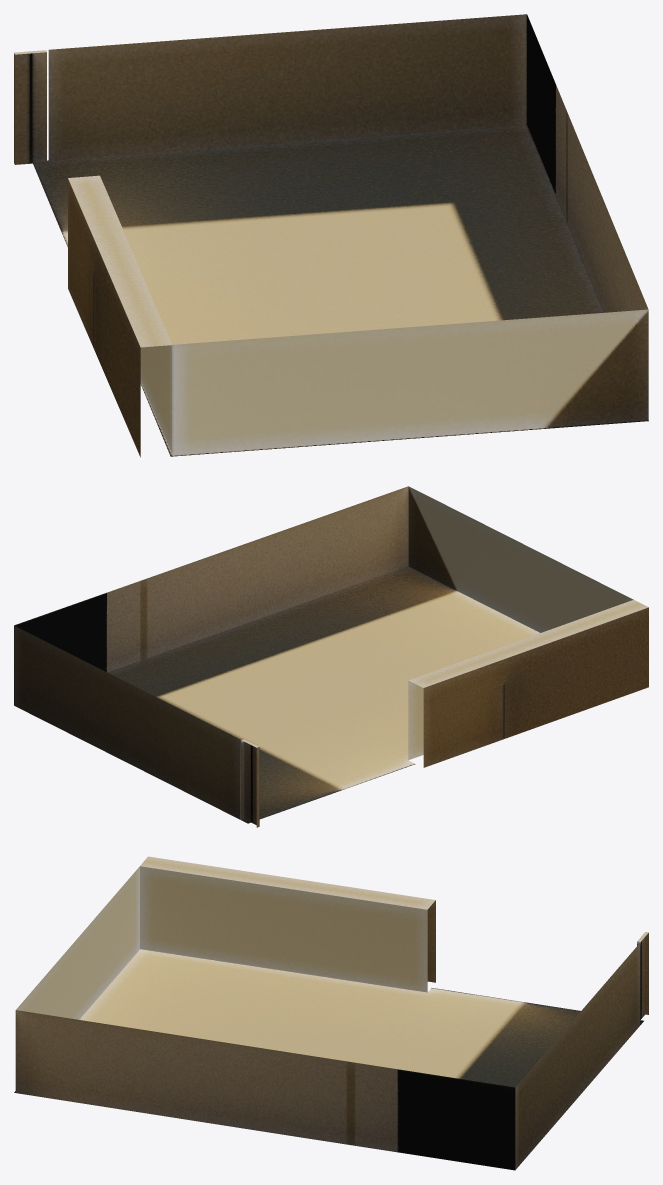
Rendered from Building_05_LV03_Walls_App04.fbx.
3 views of the same model, one above another, from view 1: azimuth 30°, elevation 25°; view 2: azimuth 150°, elevation 25°; view 3: azimuth 270°, elevation 25° (orthographic). The views are drawn at different scales.
Visible parts, largest first — view 1: Building_05_LV03_Walls_App04; view 2: Building_05_LV03_Walls_App04; view 3: Building_05_LV03_Walls_App04.
Part boxes in pixels (box(x1,y1,x2,y2)): Building_05_LV03_Walls_App04: box(14, 14, 648, 457); Building_05_LV03_Walls_App04: box(14, 486, 648, 827); Building_05_LV03_Walls_App04: box(14, 856, 648, 1170).
Bounding box in the file's own units: 8.9 × 1.49 × 10.33.
1 material, 1 textured.
